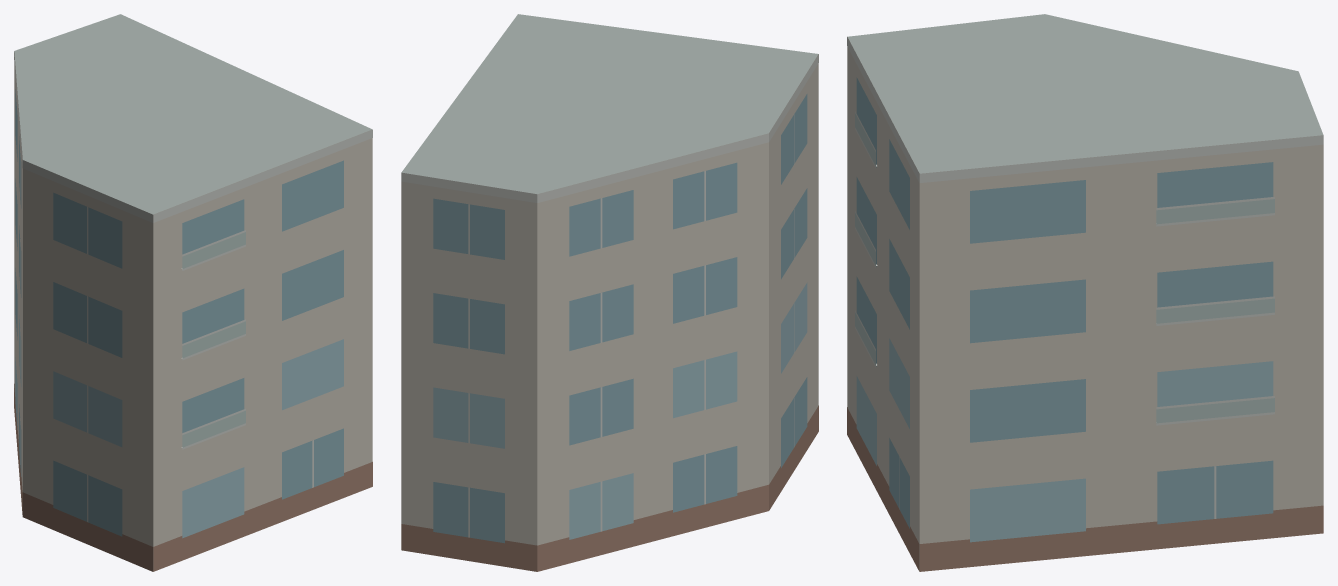
File: survey-upis-32468550.glb
3 views of the same model, side by side, from view 1: azimuth 30°, elevation 25°; view 2: azimuth 150°, elevation 25°; view 3: azimuth 270°, elevation 25° (orthographic). The views are drawn at different scales.
Visible parts, largest first — view 1: survey-upis-32468550.tmp; view 2: survey-upis-32468550.tmp; view 3: survey-upis-32468550.tmp.
Boxes of the visible parts, left/top/right/bottom form: survey-upis-32468550.tmp: left=14, top=14, right=372, bottom=571; survey-upis-32468550.tmp: left=401, top=14, right=818, bottom=571; survey-upis-32468550.tmp: left=847, top=14, right=1323, bottom=571.
Size of the model in its own units: 8.83 by 10.25 by 11.12.
